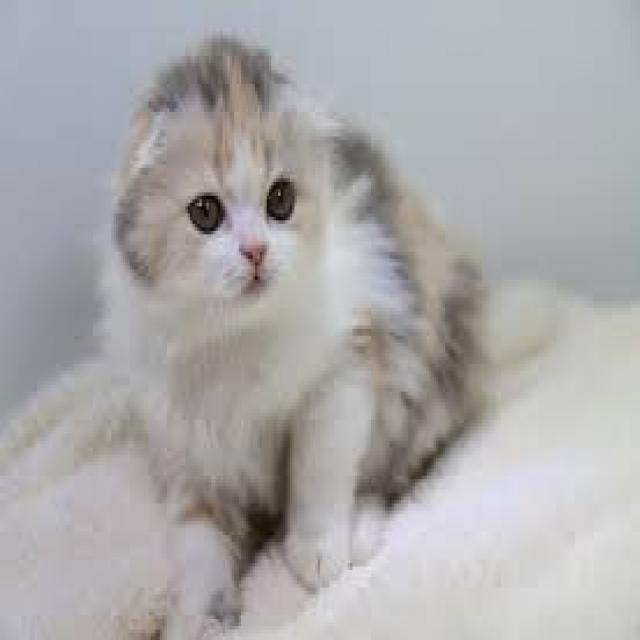cat-face: (85, 24, 411, 436)
